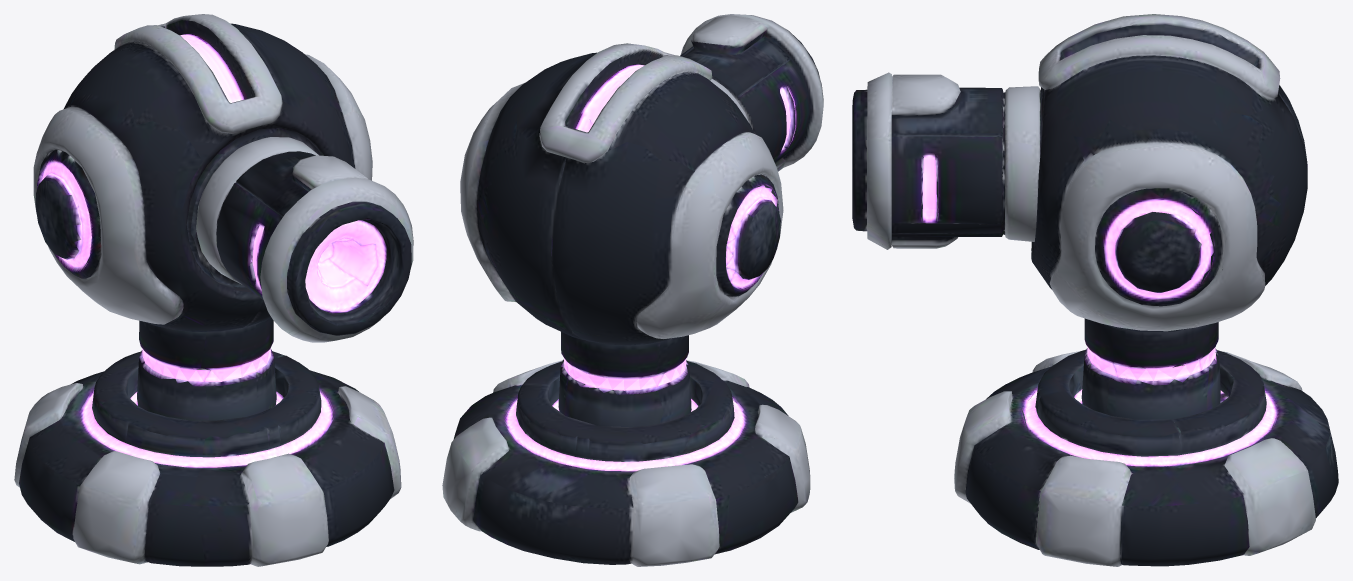
Rendered from warrior-4-tier-1.glb.
3 renders of one model, left to right at view 1: azimuth 30°, elevation 25°; view 2: azimuth 150°, elevation 25°; view 3: azimuth 270°, elevation 25°, orthographic. The views are drawn at different scales.
Parts seen in each view (by area): view 1: moving-assembly, fixed-platform; view 2: moving-assembly, fixed-platform; view 3: moving-assembly, fixed-platform.
Boxes of the visible parts, <box> form: moving-assembly: <box>33,14,413,381</box>; fixed-platform: <box>14,349,401,566</box>; moving-assembly: <box>460,14,823,390</box>; fixed-platform: <box>442,359,810,566</box>; moving-assembly: <box>852,14,1307,380</box>; fixed-platform: <box>954,347,1338,566</box>.
Bounding box in the file's own units: 0.5321 × 0.7164 × 0.6792.
Materials: 1 (1 with a texture image).
